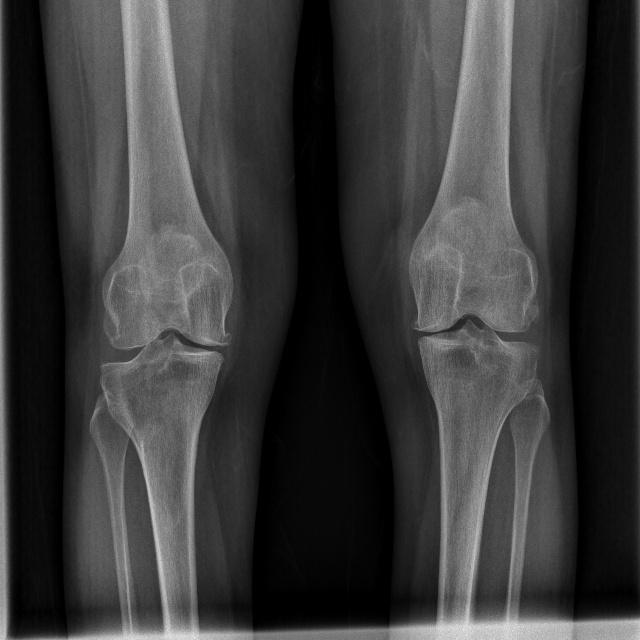Knee: (97, 272, 233, 434), (404, 261, 543, 414)
